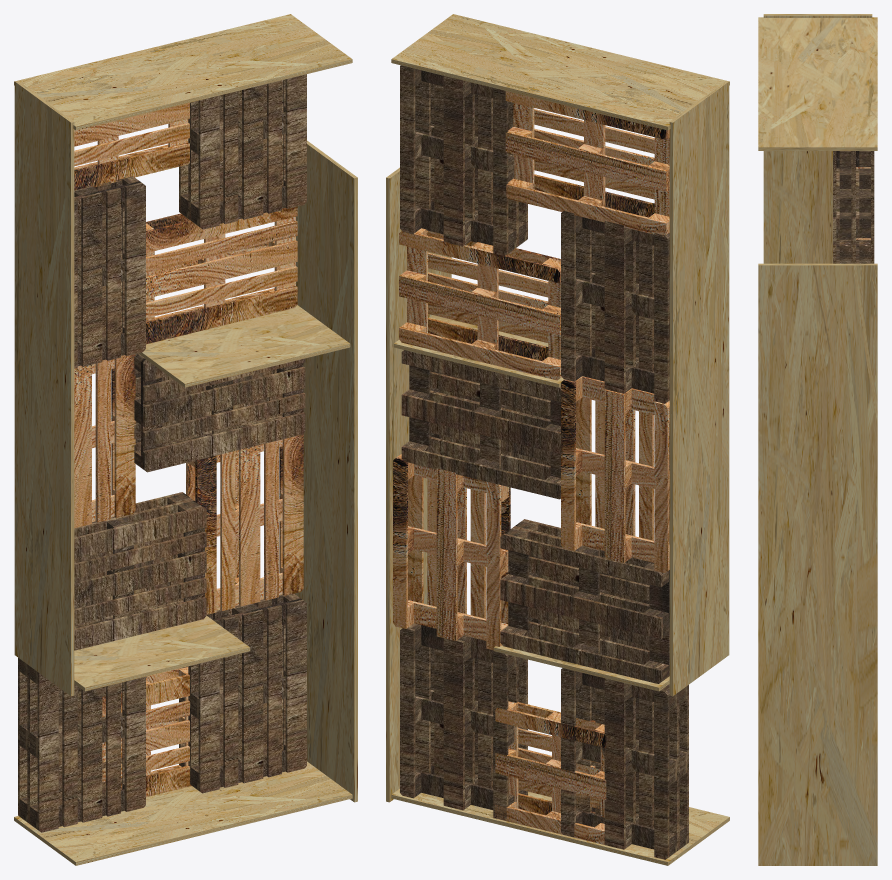
The model's file is palettes.obj.
3 renders of one model, left to right at view 1: azimuth 30°, elevation 25°; view 2: azimuth 150°, elevation 25°; view 3: azimuth 270°, elevation 25°, orthographic. The views are drawn at different scales.
Parts seen in each view (by area): view 1: Cube.002, Cube.003, Europalette.011, Cube.004, Europalette.001, Europalette.010, Europalette.015, Europalette.007, Europalette.002, Europalette.006, Cube.005, Europalette.003 (+11 smaller); view 2: Cube.002, Europalette.008, Europalette.010, Europalette.001, Europalette.009, Europalette.012, Cube.004, Europalette, Europalette.004, Europalette.005, Europalette.016, Europalette.014 (+11 smaller); view 3: Cube.003, Cube.004, Cube.002, Europalette, Europalette.002.
Boxes of the visible parts, bbox=[...] form: Cube.002: bbox=[14, 80, 74, 696]; Cube.003: bbox=[294, 140, 357, 802]; Europalette.011: bbox=[189, 593, 306, 793]; Cube.004: bbox=[14, 14, 352, 130]; Europalette.001: bbox=[146, 206, 297, 344]; Europalette.010: bbox=[186, 434, 303, 614]; Europalette.015: bbox=[28, 665, 145, 832]; Europalette.007: bbox=[74, 499, 206, 650]; Europalette.002: bbox=[190, 74, 306, 229]; Europalette.006: bbox=[134, 353, 305, 472]; Cube.005: bbox=[14, 761, 352, 865]; Europalette.003: bbox=[74, 176, 145, 368]; Cube.002: bbox=[669, 80, 729, 696]; Europalette.008: bbox=[500, 526, 669, 683]; Europalette.010: bbox=[393, 454, 510, 650]; Europalette.001: bbox=[399, 228, 561, 380]; Europalette.009: bbox=[561, 376, 669, 572]; Europalette.012: bbox=[400, 623, 516, 820]; Cube.004: bbox=[391, 14, 729, 130]; Europalette: bbox=[400, 65, 517, 255]; Europalette.004: bbox=[561, 211, 669, 403]; Europalette.005: bbox=[401, 350, 562, 499]; Europalette.016: bbox=[505, 91, 669, 236]; Europalette.014: bbox=[561, 668, 678, 859]; Cube.003: bbox=[758, 263, 877, 865]; Cube.004: bbox=[758, 17, 877, 150]; Cube.002: bbox=[763, 14, 872, 263]; Europalette: bbox=[852, 151, 874, 263]; Europalette.002: bbox=[833, 151, 854, 263].
Size of the model in its own units: 2.65 by 6.66 by 1.
23 materials, 23 textured.
